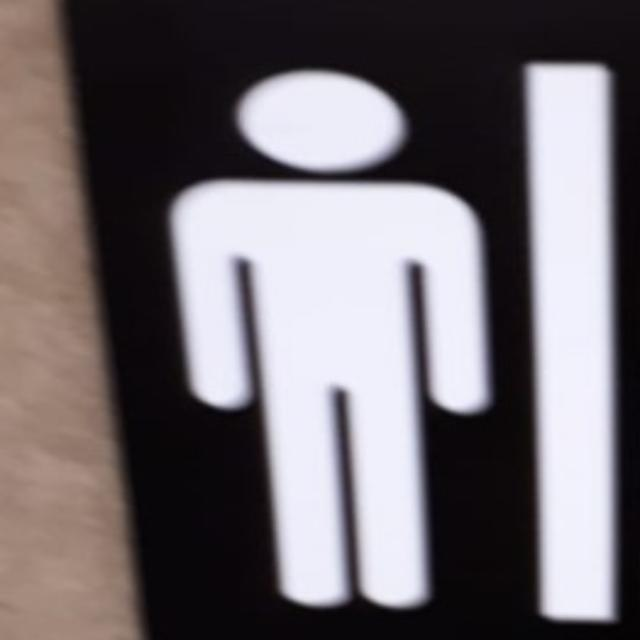mens_restroom: (173, 71, 491, 606)
